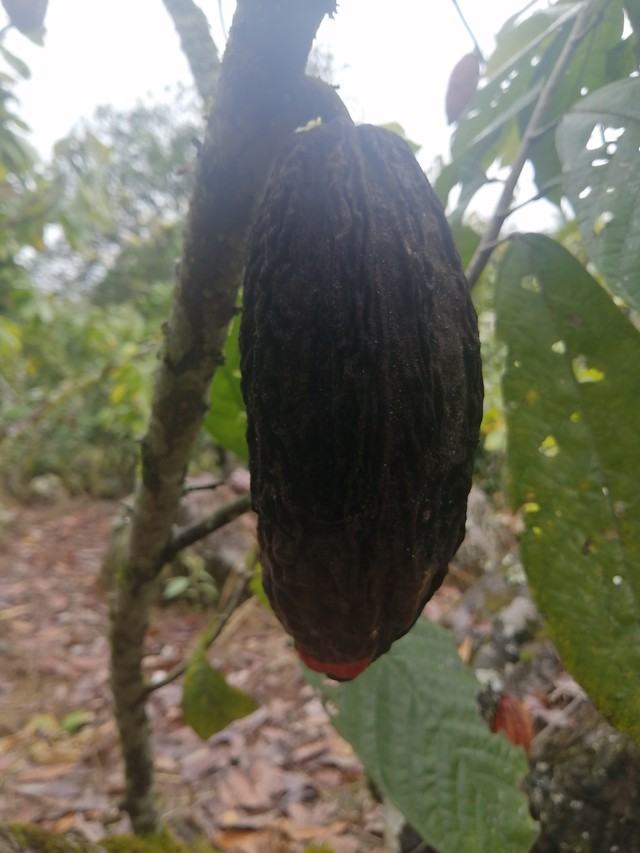phytophthora palmivora: (228, 113, 496, 690)
